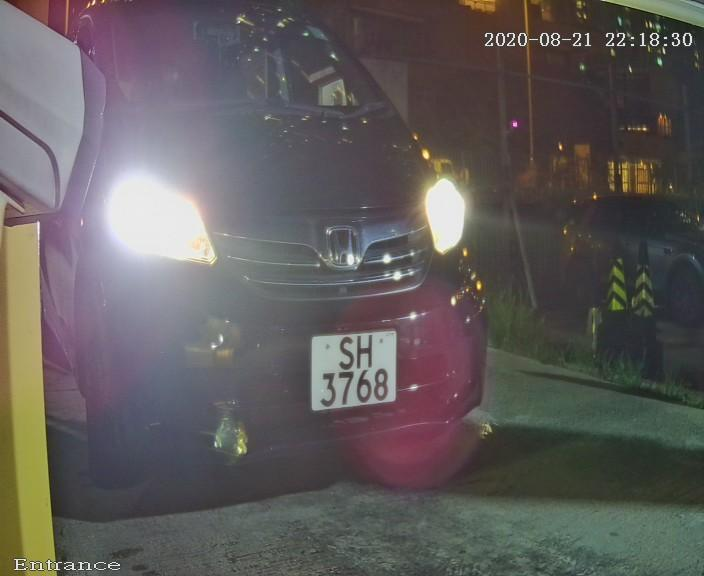Car: (1, 6, 551, 523)
License Plate: (302, 317, 406, 425)
